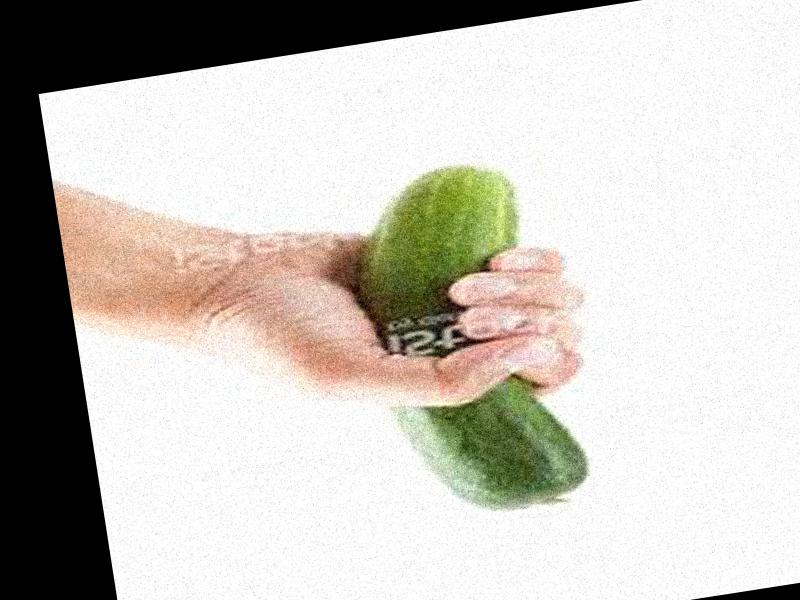Cucumber: (340, 154, 597, 528)
